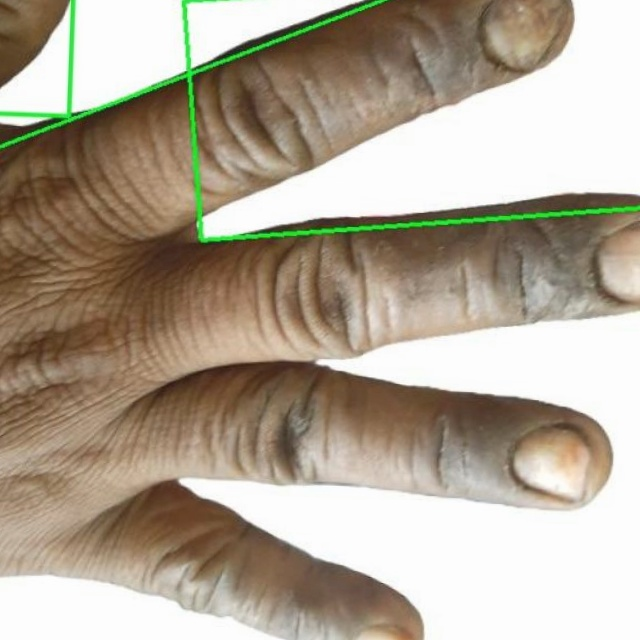Eczema: (182, 0, 639, 239), (0, 0, 380, 145)
